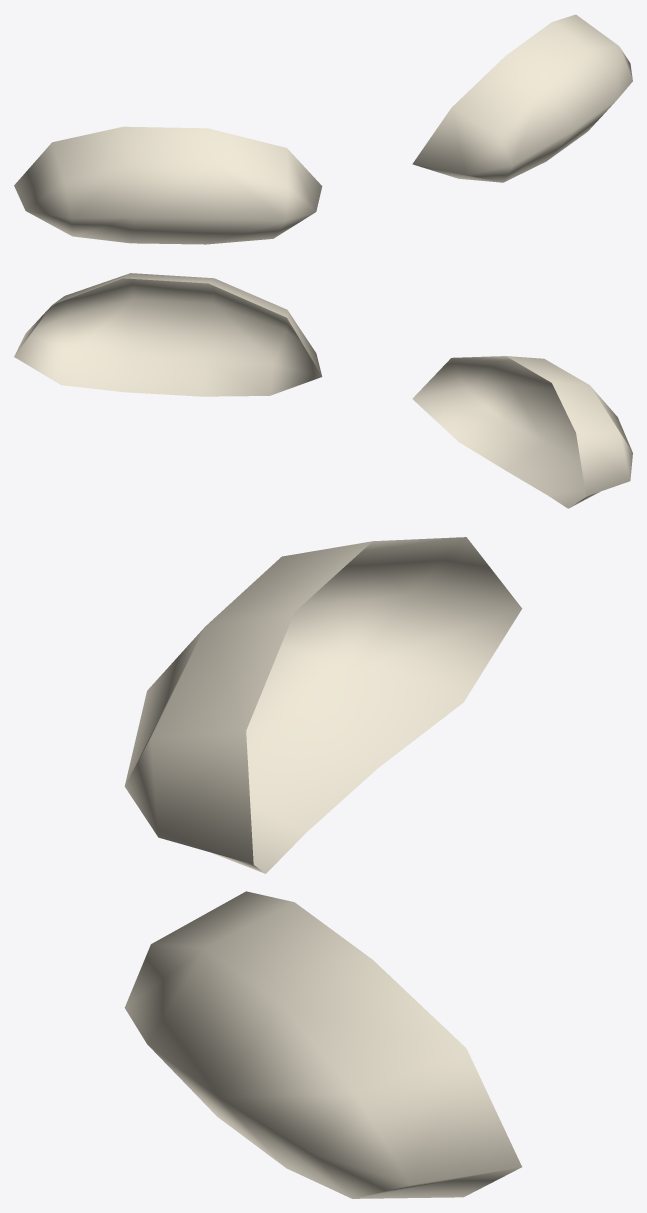
The model's file is Eyebrow_20.fbx.
The picture shows the model from 3 angles, top to bottom: view 1: azimuth 30°, elevation 25°; view 2: azimuth 150°, elevation 25°; view 3: azimuth 270°, elevation 25°; orthographic projection. The views are drawn at different scales.
Parts seen in each view (by area): view 1: Eyebrow_20; view 2: Eyebrow_20; view 3: Eyebrow_20.
Boxes of the visible parts, x1,y1,x2,y2 form: Eyebrow_20: (14, 14, 632, 244); Eyebrow_20: (14, 273, 632, 508); Eyebrow_20: (124, 537, 522, 1198).
Bounding box in the file's own units: 39.12 × 7.12 × 11.14.
